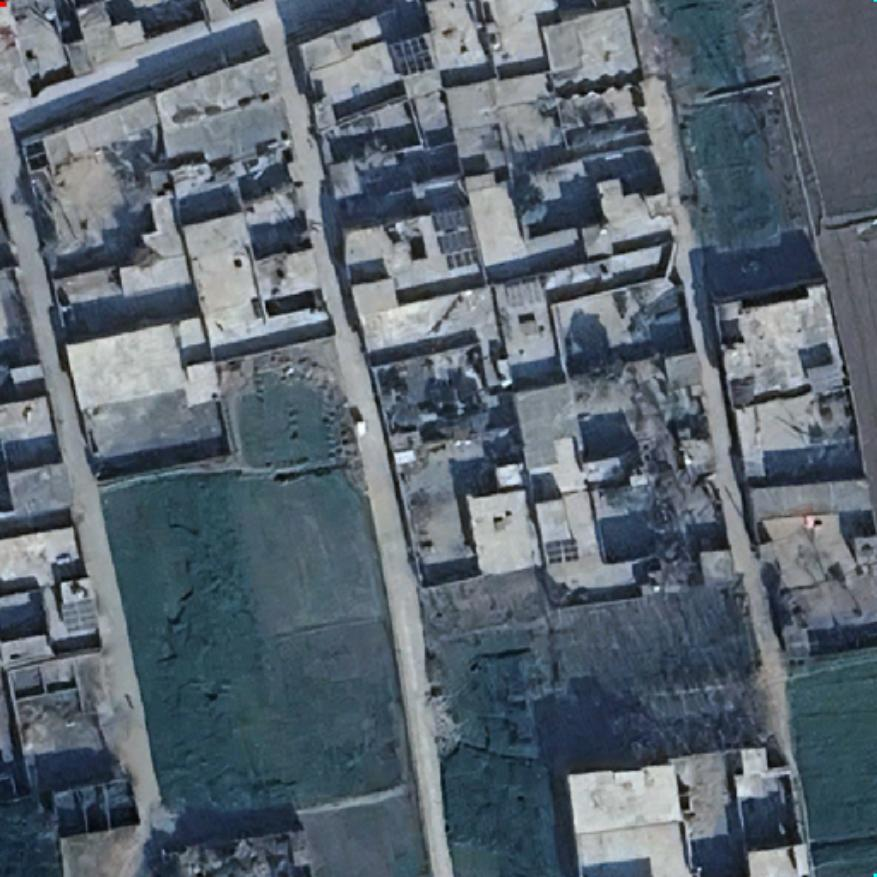Solarpanel: (388, 32, 438, 78), (58, 598, 102, 635), (429, 203, 475, 233), (805, 361, 847, 391), (542, 538, 582, 568), (438, 225, 479, 254), (504, 283, 543, 311), (444, 247, 480, 270)
